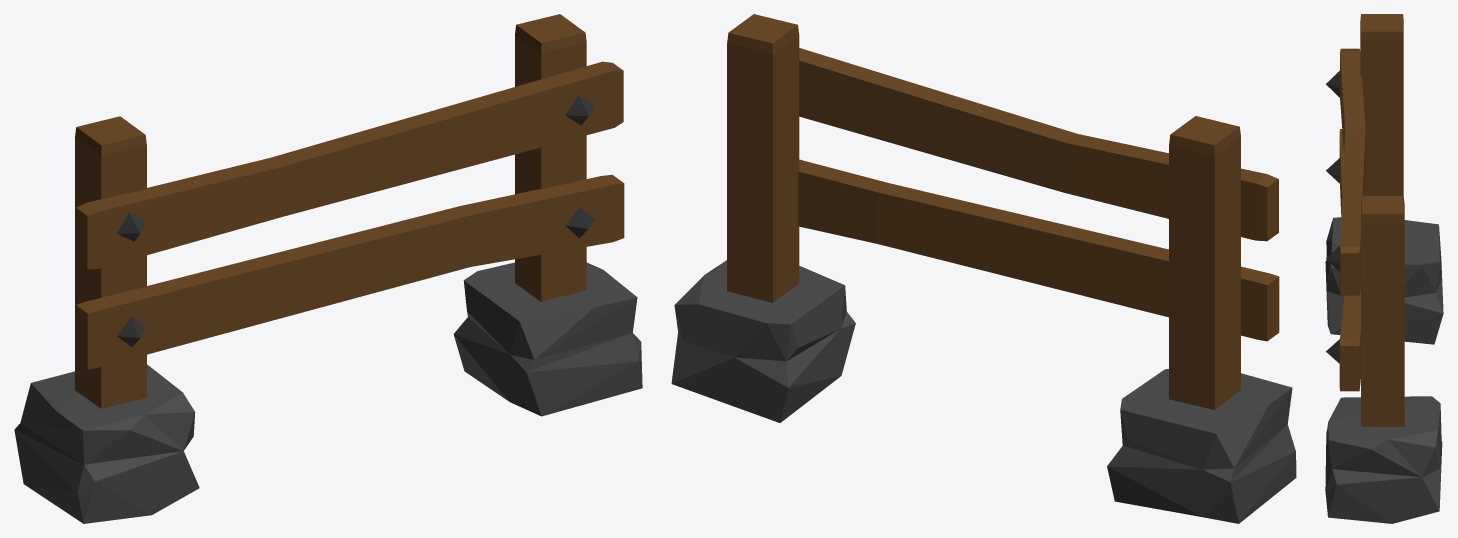
File: Woodenfence_short.fbx
3 renders of one model, left to right at view 1: azimuth 30°, elevation 25°; view 2: azimuth 150°, elevation 25°; view 3: azimuth 270°, elevation 25°, orthographic. The views are drawn at different scales.
Visible parts, largest first — view 1: woodenfence_short; view 2: woodenfence_short; view 3: woodenfence_short.
Part boxes in pixels (left/top/right/bottom): woodenfence_short: left=14, top=14, right=642, bottom=523; woodenfence_short: left=671, top=14, right=1296, bottom=523; woodenfence_short: left=1325, top=14, right=1443, bottom=523.
Size of the model in its own units: 2.97 by 1.82 by 0.6504.
